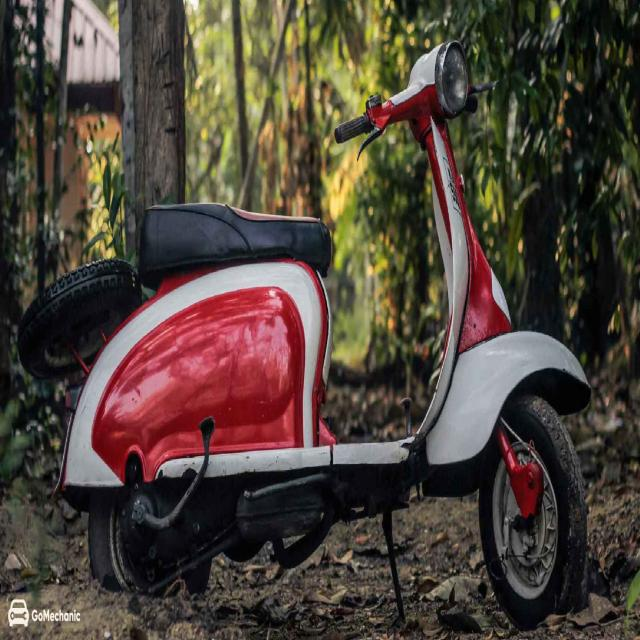motorcycle: (19, 43, 590, 629)
